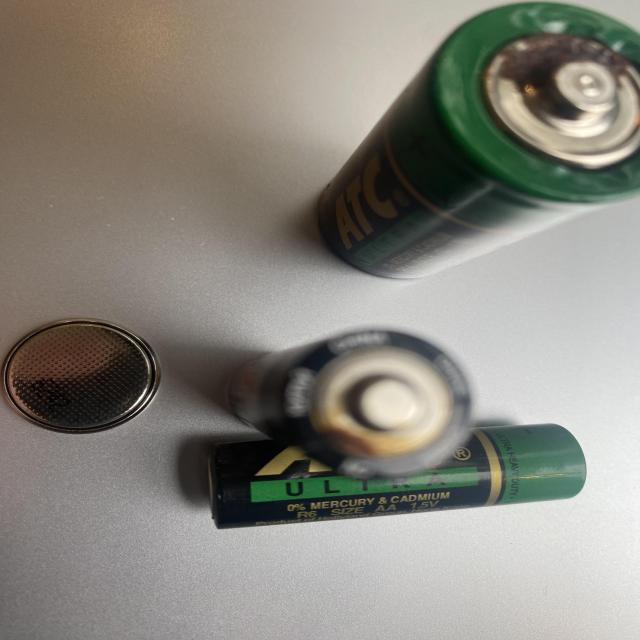COIN: (2, 294, 169, 438)
